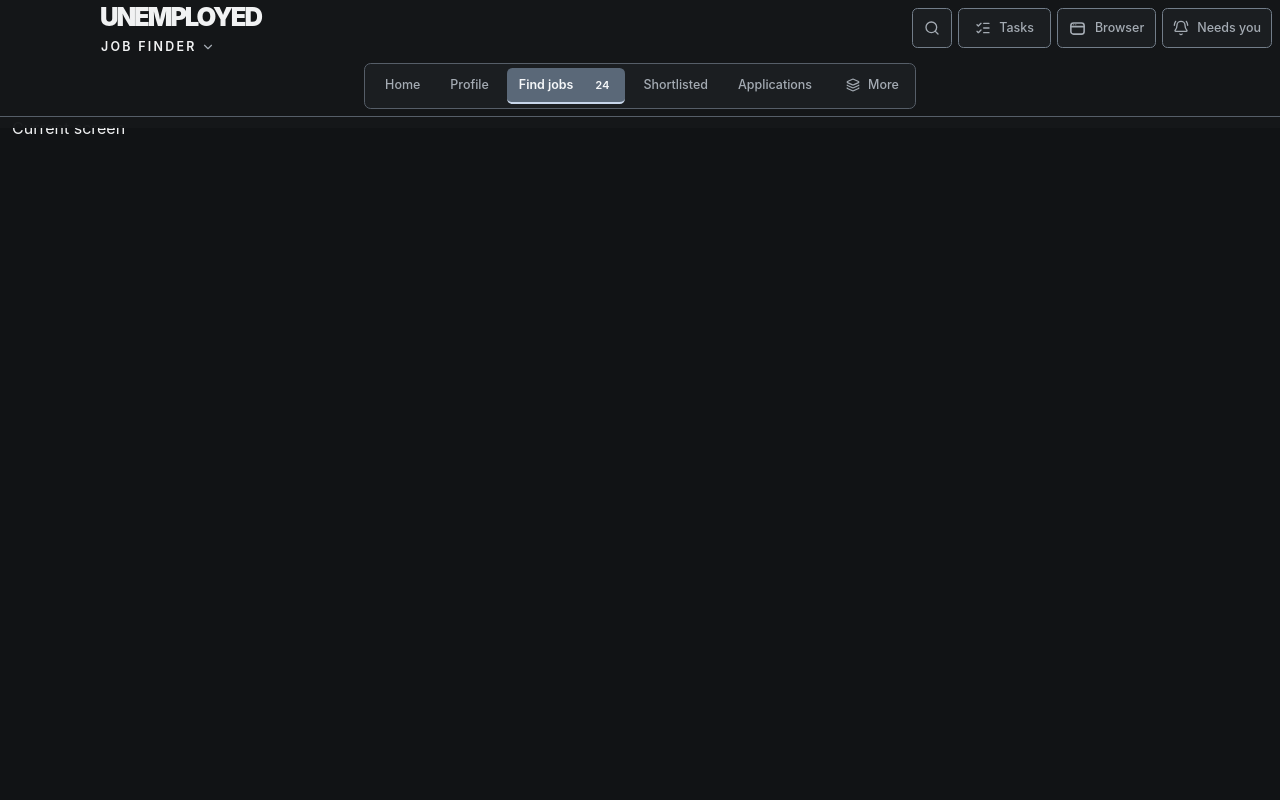
Test: JobFinderShell compact nav responsive contract › keeps the shortcut reference out of the More menu and behind one entry
Click the button "More": [872, 86] box [834, 68, 911, 104]
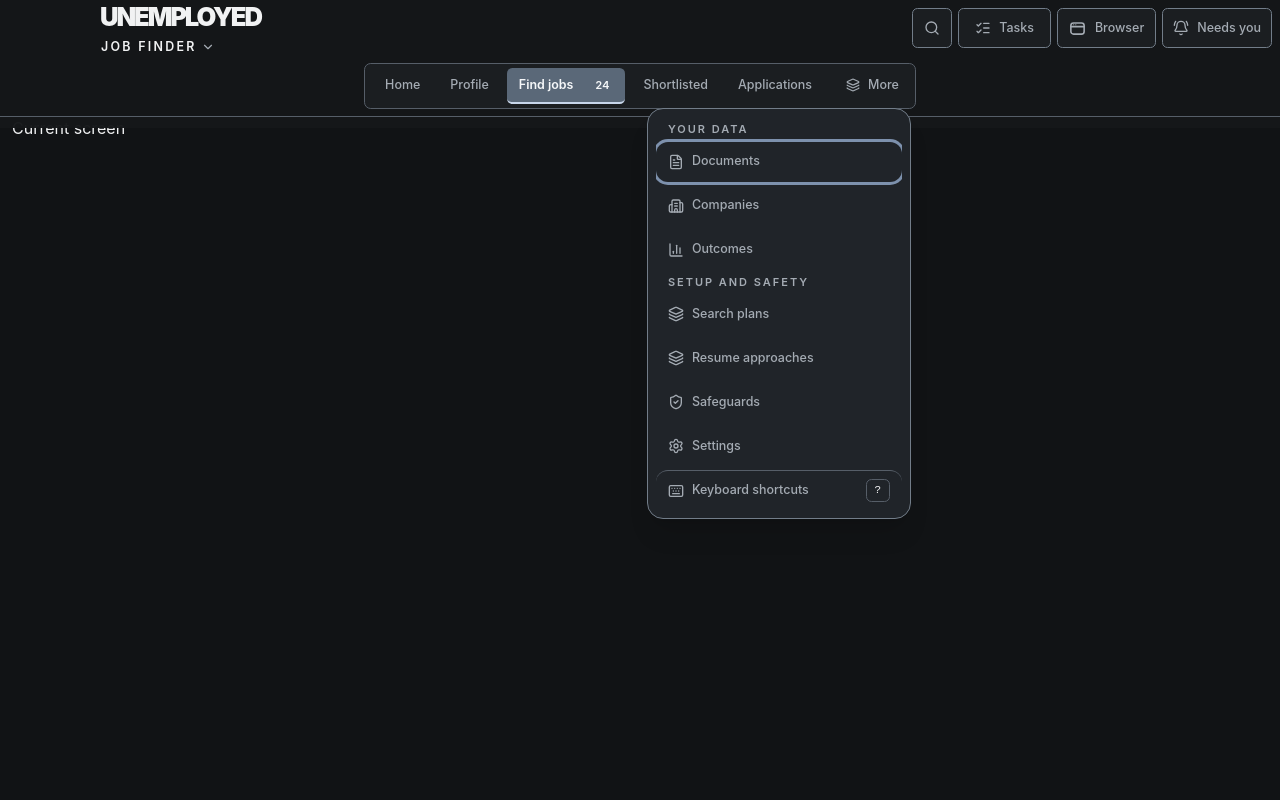
Expected: the navigation bar "More" does not show "Show or hide the sidebar"
Click the button "Keyboard shortcuts ?": [779, 490] box [656, 470, 902, 510]
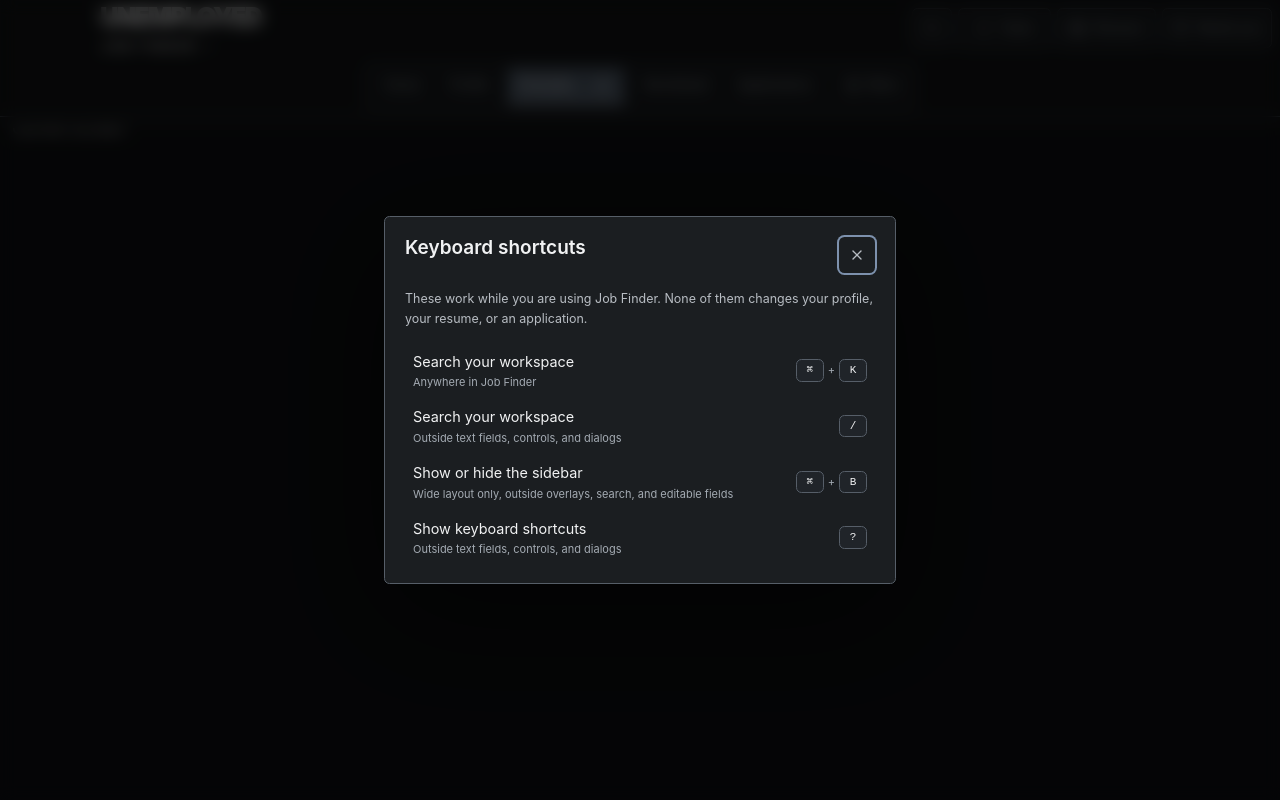
Now the dialog "Keyboard shortcuts" shows "Search your workspace", box [413, 353, 574, 370]
Now the dialog "Keyboard shortcuts" shows "Show or hide the sidebar", box [413, 464, 583, 481]
Now the text "/" is shown once, box [839, 415, 867, 437]
